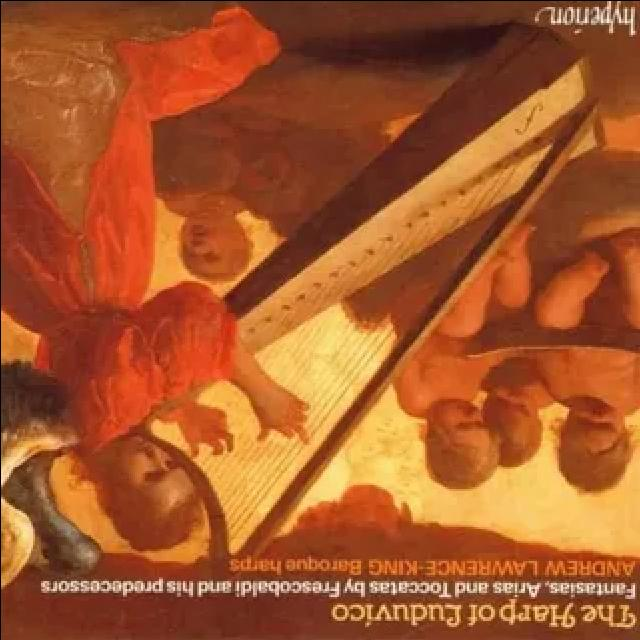angel: (0, 12, 582, 580)
